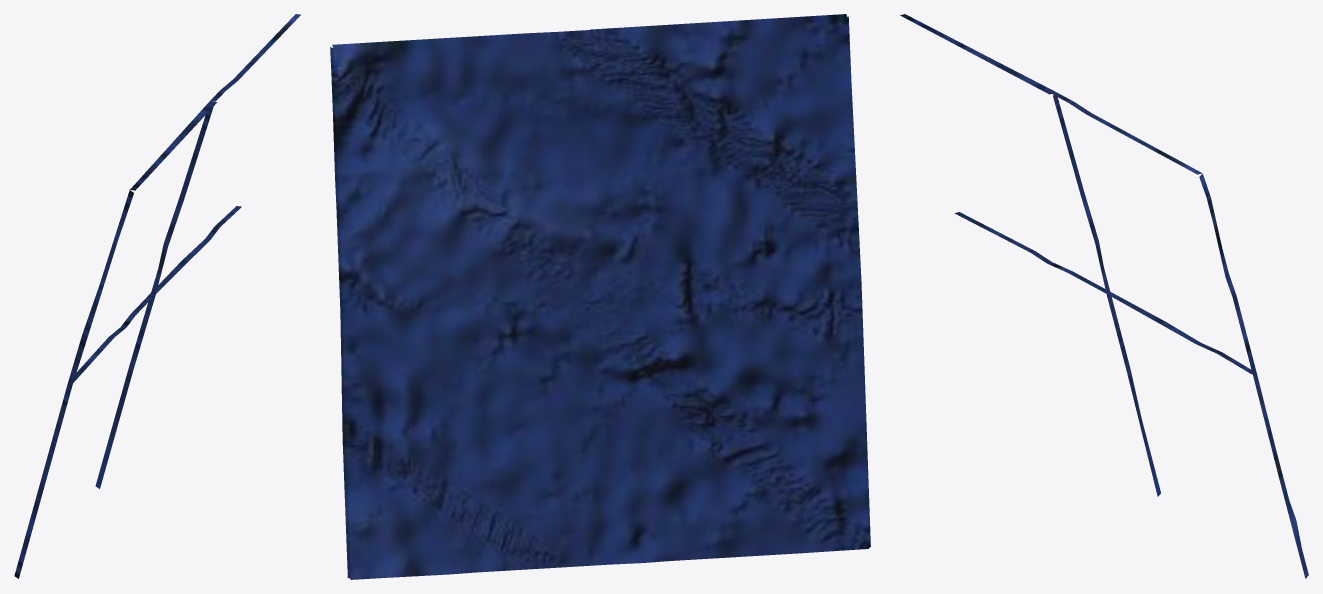
3 renders of one model, left to right at view 1: azimuth 30°, elevation 25°; view 2: azimuth 150°, elevation 25°; view 3: azimuth 270°, elevation 25°, orthographic. The views are drawn at different scales.
Bounding box in the file's own units: 292282 × 304184 × 256536.
1 material, 1 textured.
